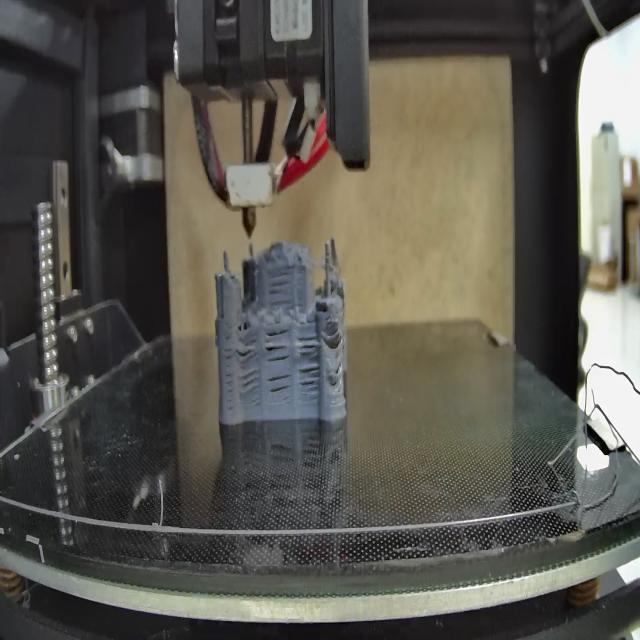cracks: (294, 330, 321, 397), (264, 270, 295, 306), (263, 328, 293, 363), (224, 334, 235, 410), (267, 372, 293, 399), (240, 366, 260, 396), (238, 334, 257, 364), (324, 323, 344, 351), (330, 358, 344, 391), (218, 302, 228, 322)
